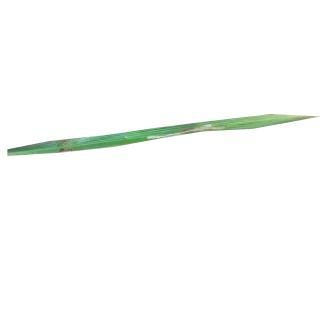Blast: (56, 140, 74, 152)
